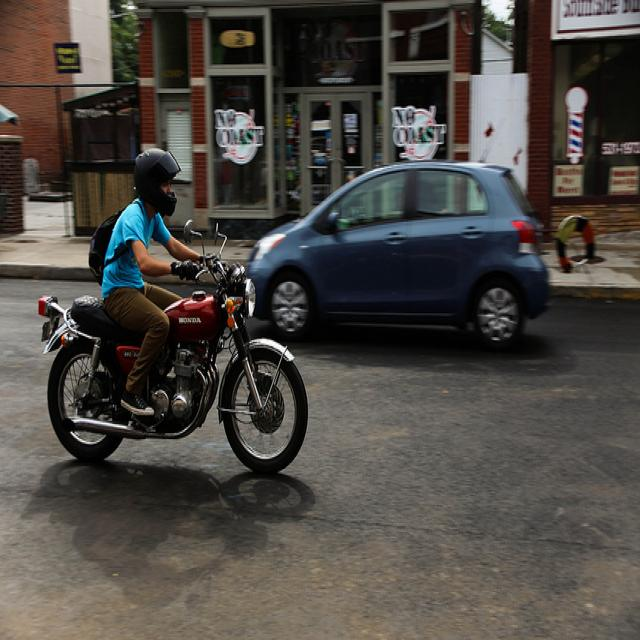motor: (39, 252, 308, 474)
